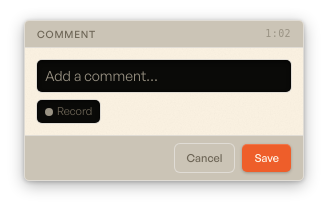
Test: AnnotationEditor — comment › × button clears the audio and restores the Record button
Step 1. Click the button with aria-label "Record audio comment" → coordinates (69, 112), box [37,100,100,123]
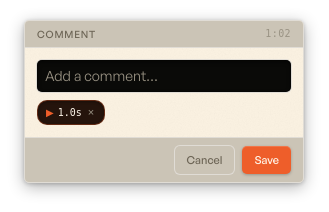
Expected: the picture named "Recorded audio" is shown, [37,100,105,125]
Step 2. Click the button named "Remove recording" → coordinates (91, 112), box [86,107,96,118]
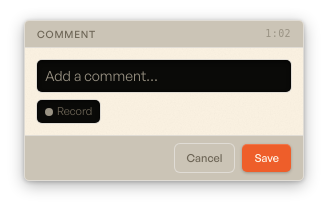
Expected: the button with aria-label "Record audio comment" is shown, [37,100,100,123]
